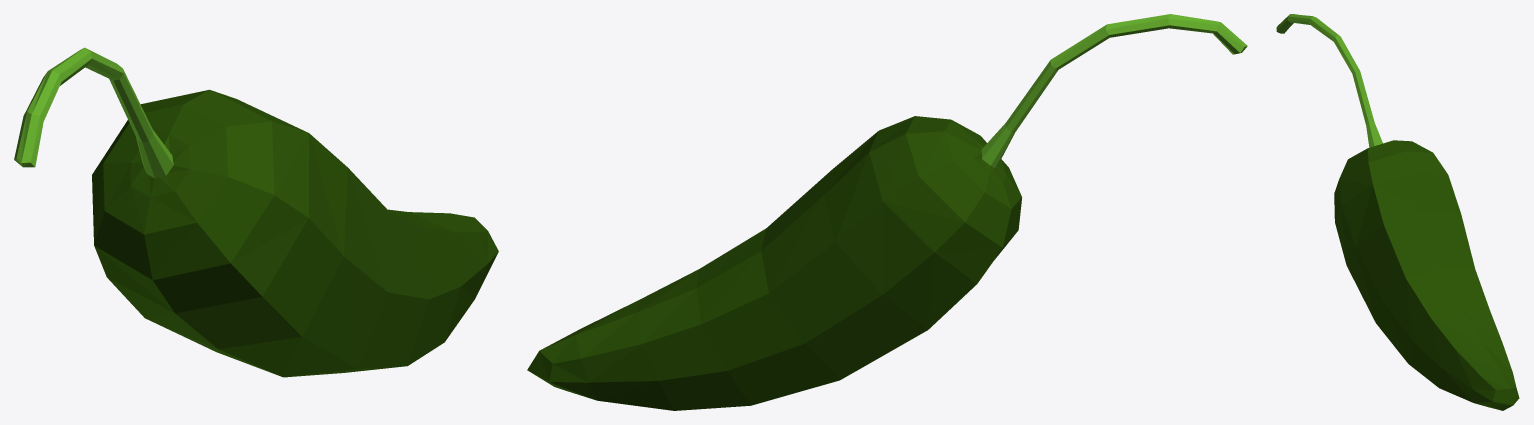
The picture shows the model from 3 angles, left to right: view 1: azimuth 30°, elevation 25°; view 2: azimuth 150°, elevation 25°; view 3: azimuth 270°, elevation 25°; orthographic projection. The views are drawn at different scales.
Parts seen in each view (by area): view 1: Node; view 2: Node; view 3: Node.
Part boxes in pixels (bbox=[...]): Node: bbox=[14, 47, 498, 377]; Node: bbox=[527, 14, 1247, 410]; Node: bbox=[1276, 14, 1519, 410].
Bounding box in the file's own units: 3.79 × 2.64 × 2.28.
